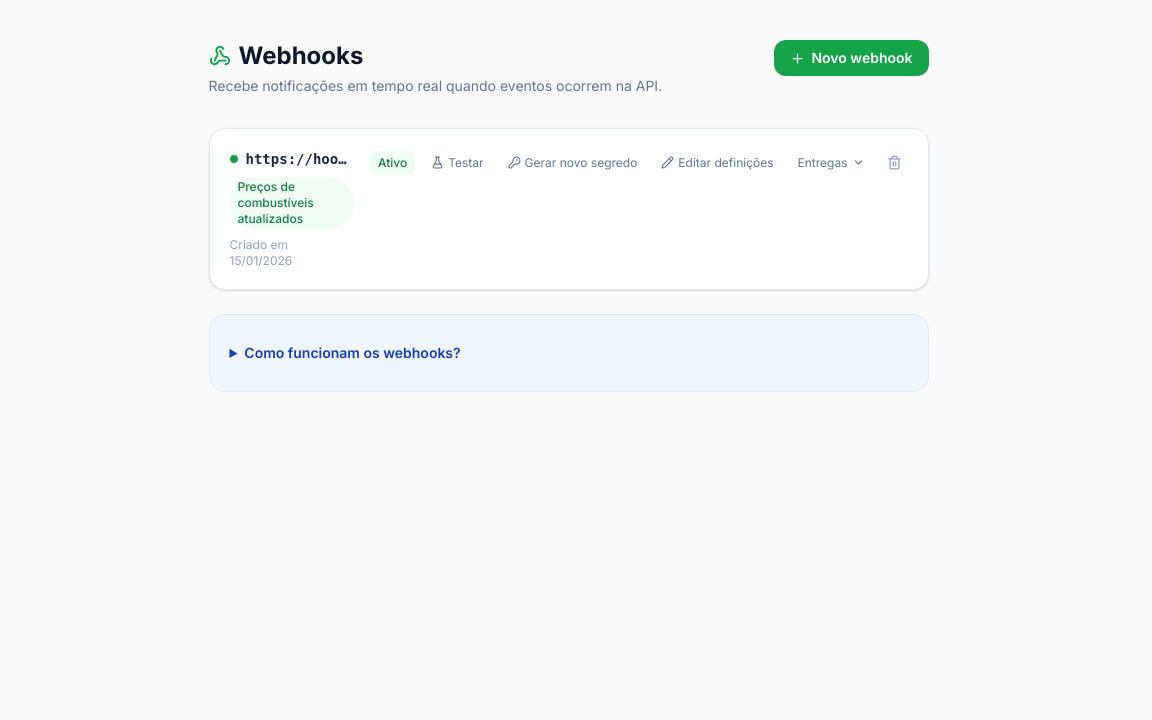
Test: Webhooks page › rotates the secret and shows the new value in the same panel
This screenshot has width=1152, height=720.
What coordinates should you click on to do the following:
click the button "Gerar novo segredo"
I would click on:
 (572, 162)
Its box is [500,150,645,174].
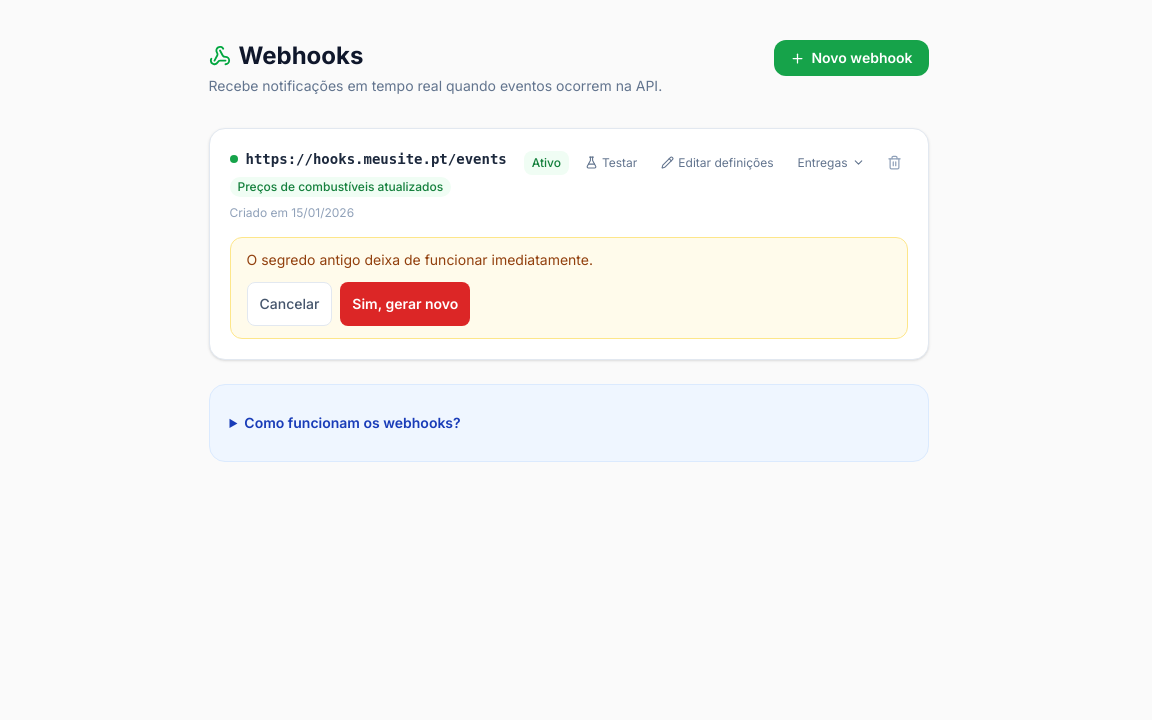
Expected: the text "O segredo antigo deixa de funcionar imediatamente." is shown, [246,251,593,268]
What coordinates should you click on to do the following:
click the button "Sim, gerar novo"
I would click on:
 (405, 304)
Its box is [340,282,470,326].
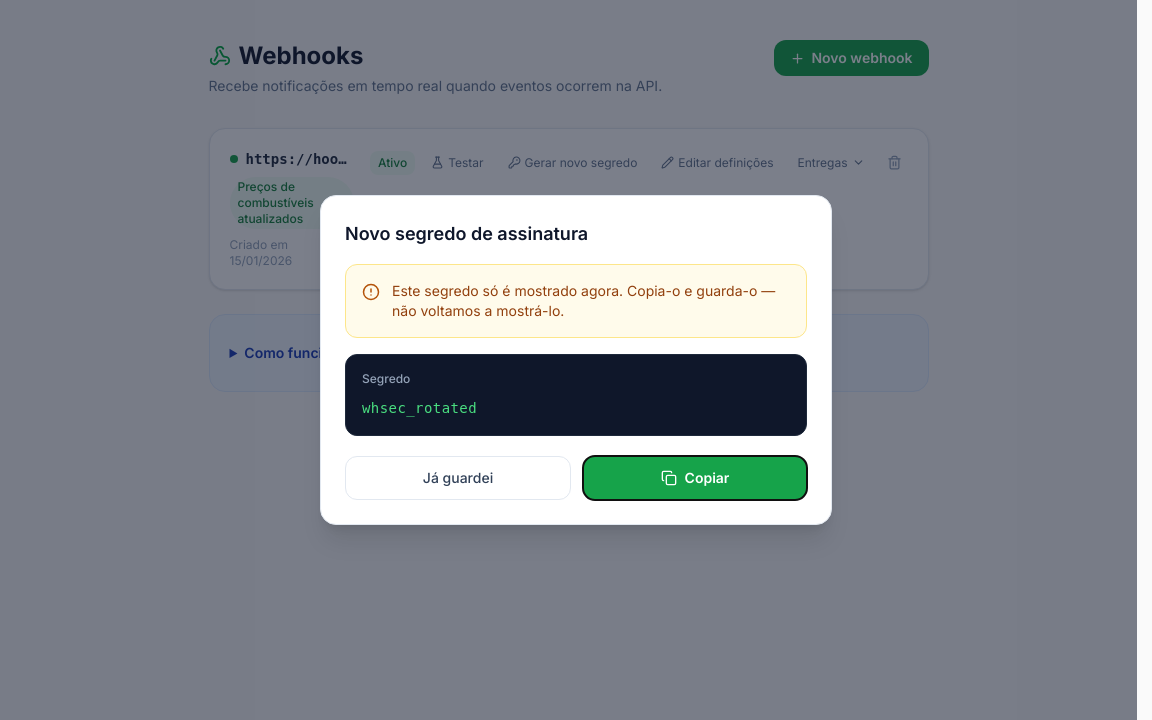
Expected: the text "whsec_rotated" is shown, [362,400,477,416]
